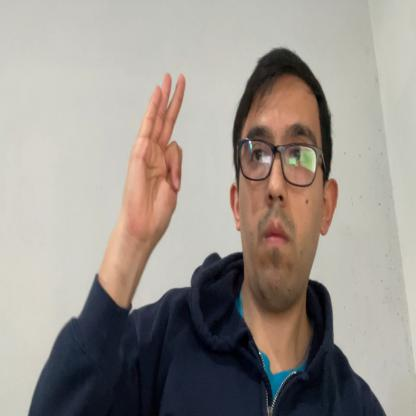F: (127, 70, 186, 236)
